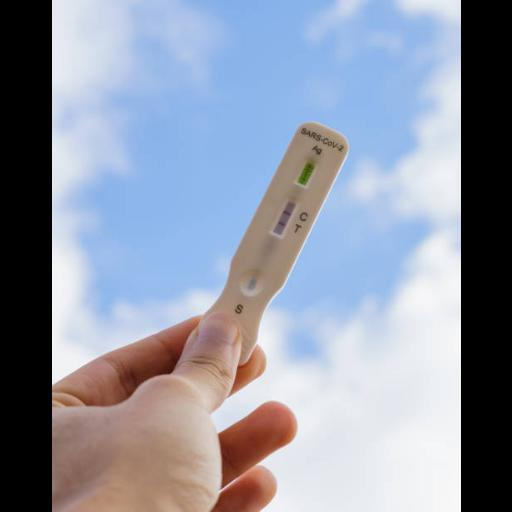Pos: (190, 119, 355, 370)
